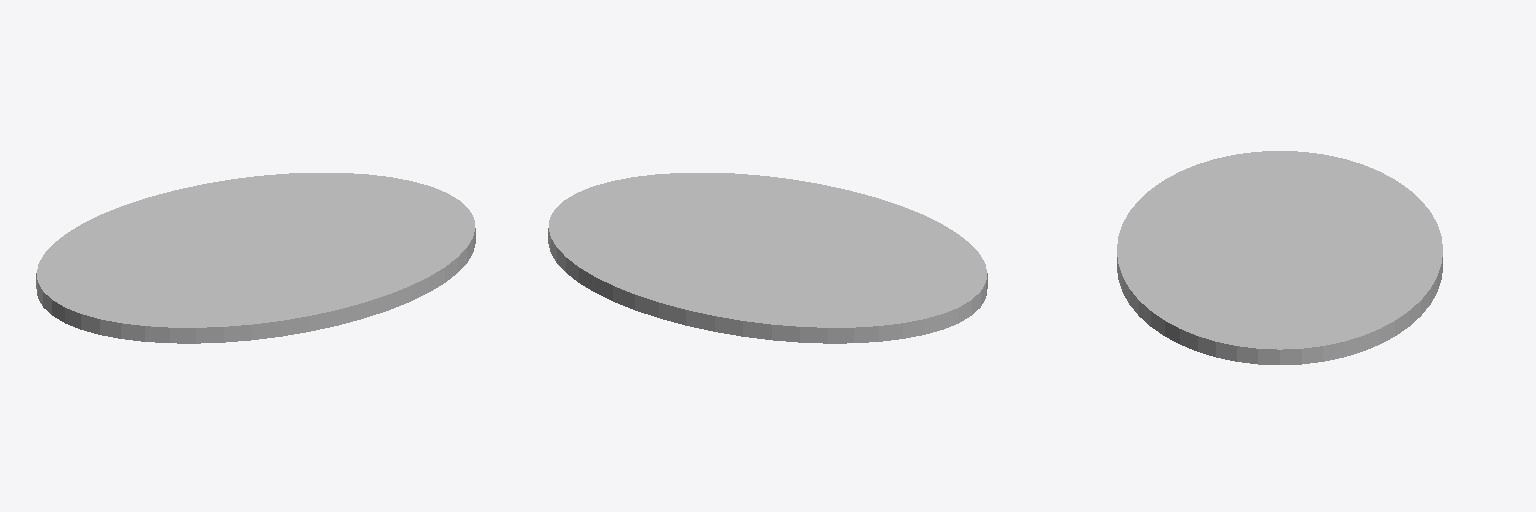
Rendered from sairan_repair_2.obj.
3 renders of one model, left to right at view 1: azimuth 30°, elevation 25°; view 2: azimuth 150°, elevation 25°; view 3: azimuth 270°, elevation 25°, orthographic.
Visible parts, largest first — view 1: Curve, Curve.001, Curve.002; view 2: Curve, Curve.001, Curve.002; view 3: Curve, Curve.001, Curve.002.
Part boxes in pixels (bbox=[...]): Curve: bbox=[36, 173, 475, 343]; Curve.001: bbox=[257, 202, 439, 263]; Curve.002: bbox=[84, 225, 255, 306]; Curve: bbox=[548, 173, 987, 343]; Curve.001: bbox=[607, 187, 779, 260]; Curve.002: bbox=[738, 238, 951, 301]; Curve: bbox=[1117, 151, 1442, 364]; Curve.001: bbox=[1216, 255, 1346, 322]; Curve.002: bbox=[1209, 169, 1340, 250].
Bounding box in the file's own units: 37.38 × 1.75 × 25.93.